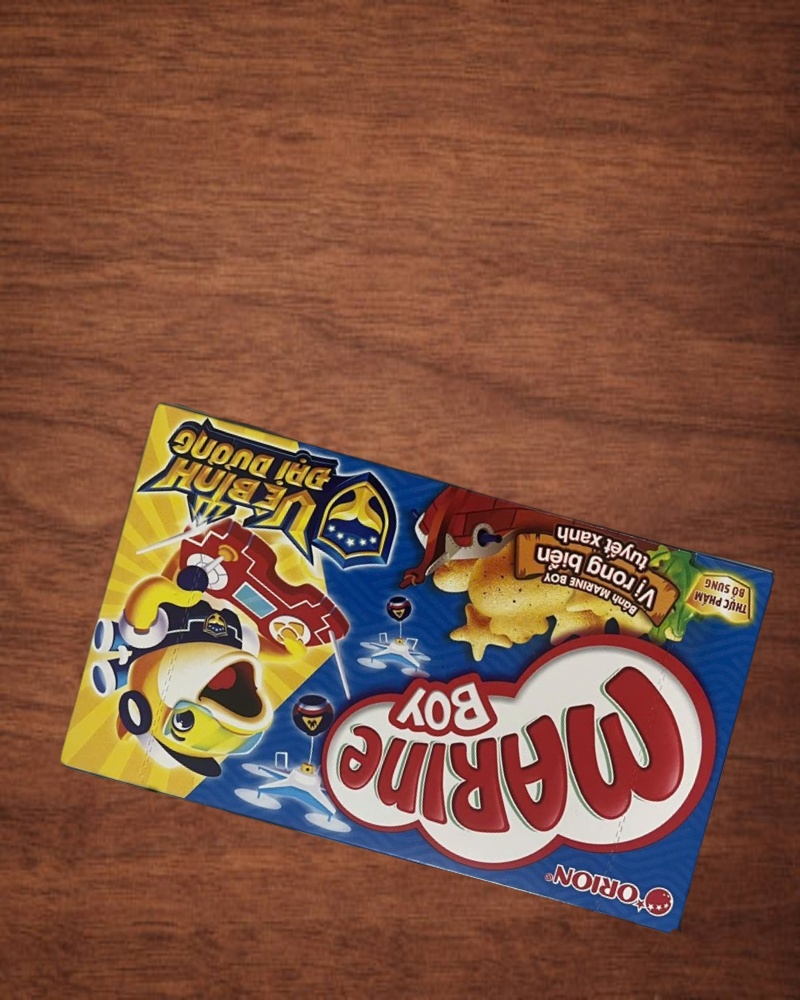Marine: (55, 401, 778, 937)
